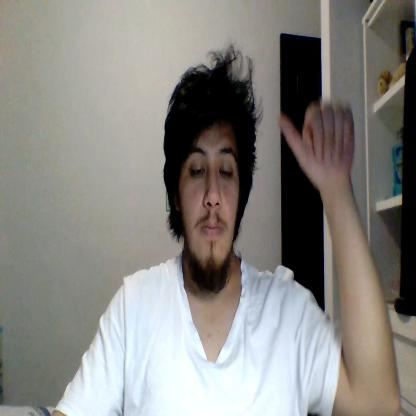A: (280, 101, 355, 180)
